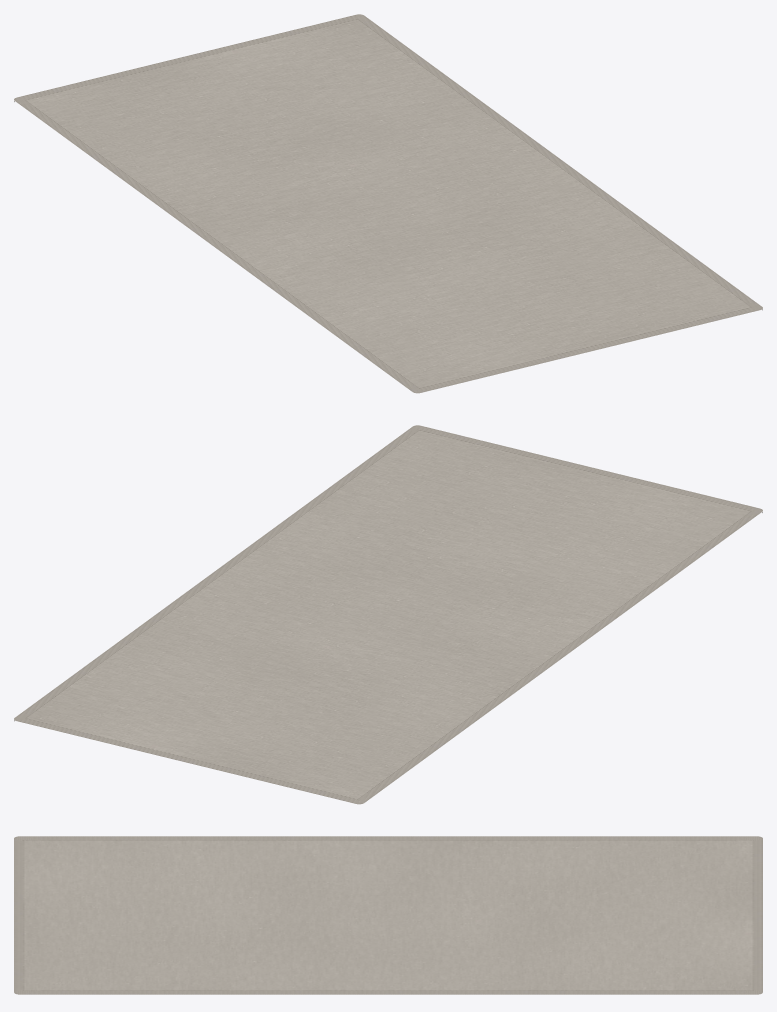
File: beige_module.glb
The picture shows the model from 3 angles, top to bottom: view 1: azimuth 30°, elevation 25°; view 2: azimuth 150°, elevation 25°; view 3: azimuth 270°, elevation 25°; orthographic projection. The views are drawn at different scales.
Parts seen in each view (by area): view 1: reliv_beige_module; view 2: reliv_beige_module; view 3: reliv_beige_module.
Boxes of the visible parts, x1,y1,x2,y2 form: reliv_beige_module: (14,14,762,393); reliv_beige_module: (14,425,762,804); reliv_beige_module: (14,836,762,994).
Size of the model in its own units: 1 by 0.009 by 2.
2 materials, 1 textured.
